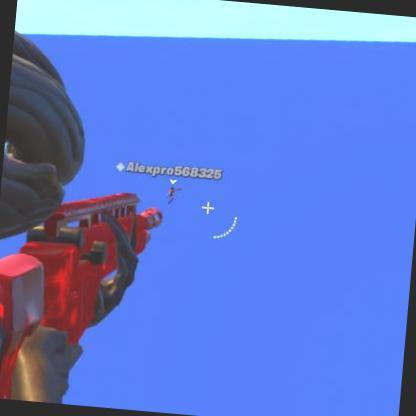person: (167, 184, 179, 205)
